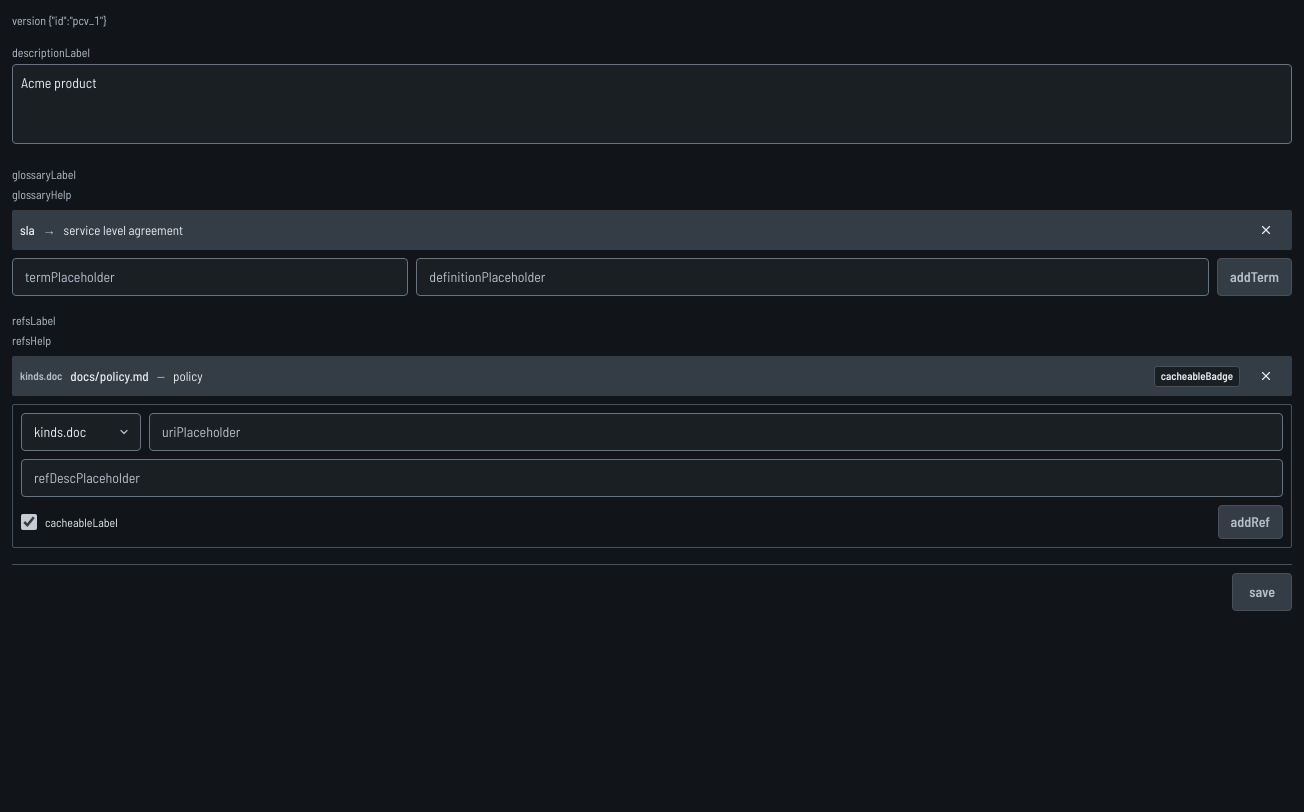
it: ProjectContextEditor › Save button is disabled until something changes
Expected: the text "sla" is shown, [20, 221, 35, 240]
Expected: the button "save" is disabled, [1232, 573, 1292, 611]
# Add a glossary entry to dirty.
Type "pr" into the field with placeholder "termPlaceholder" at coordinates (210, 277), box [12, 258, 408, 296]
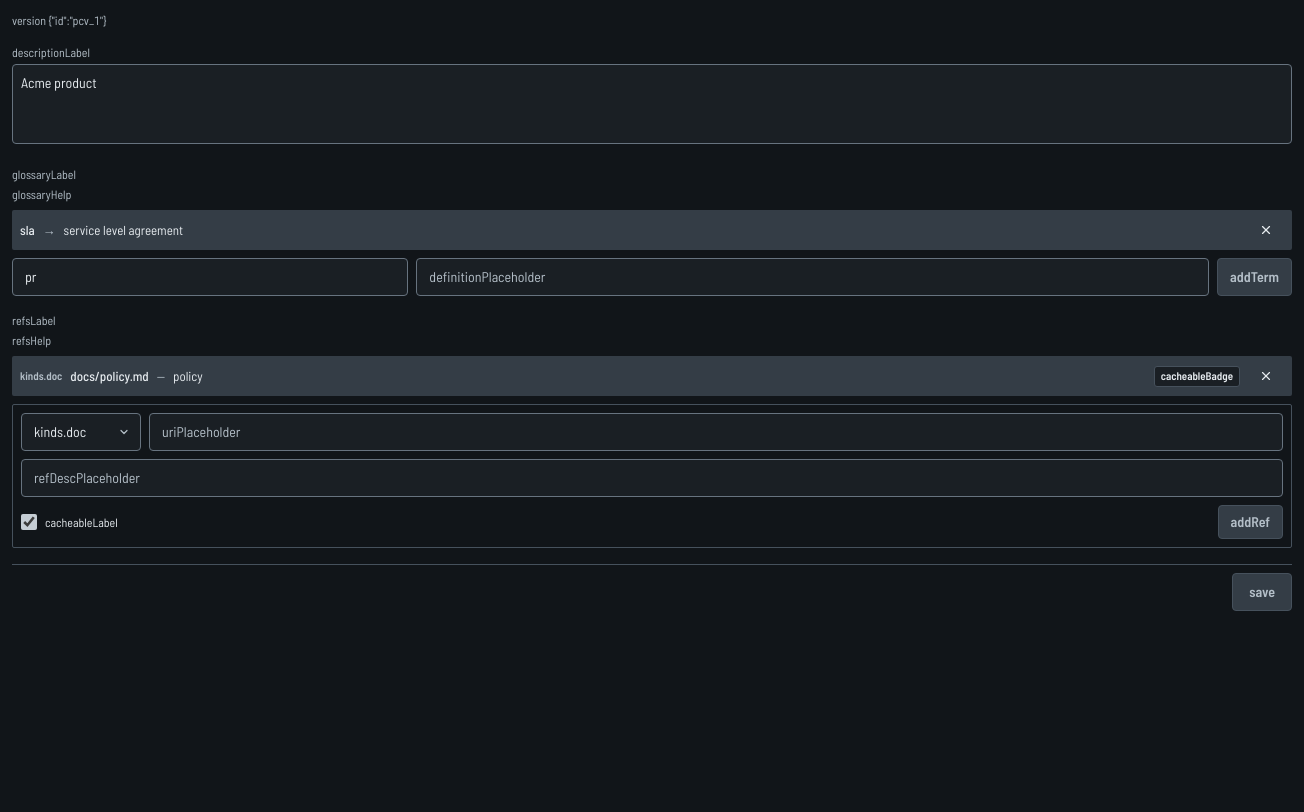
Type "pull request" into the field with placeholder "definitionPlaceholder" at coordinates (813, 277), box [416, 258, 1209, 296]
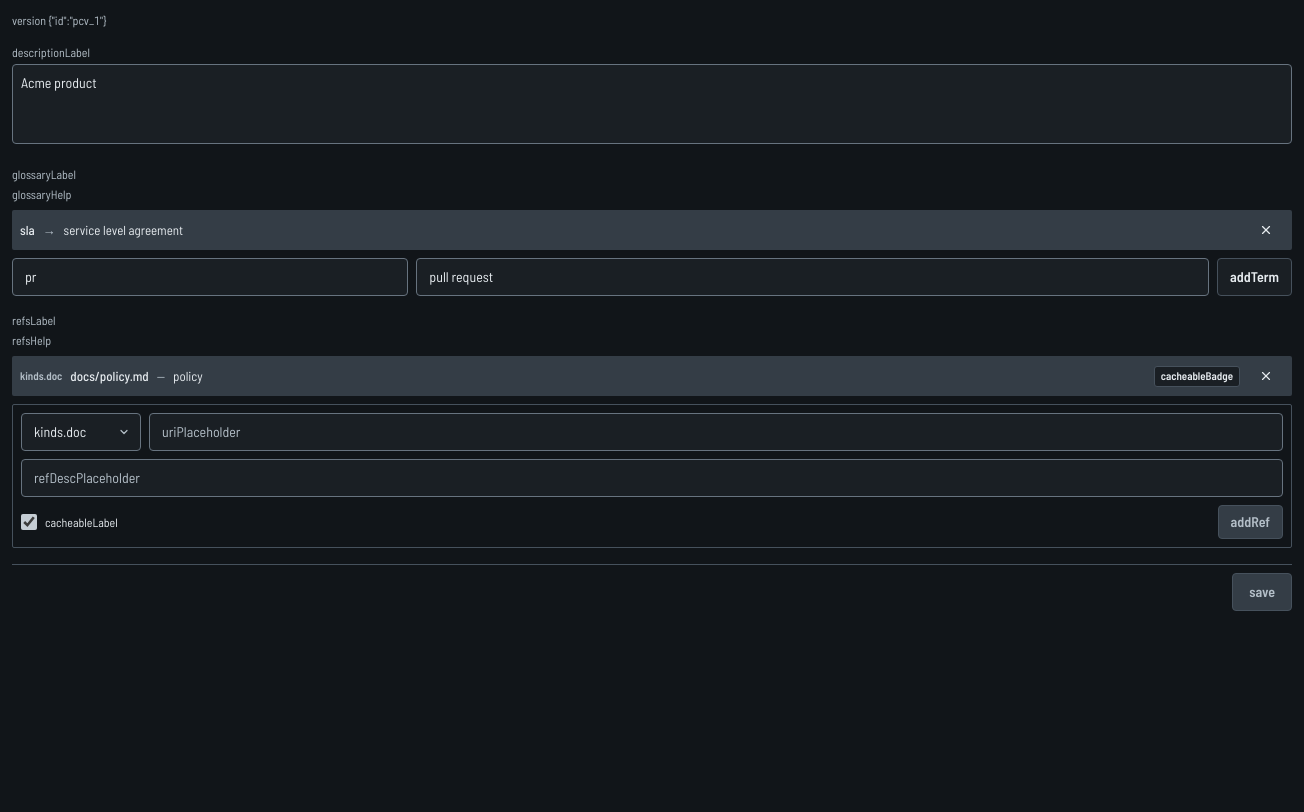
Click the button "addTerm" at coordinates (1255, 277), box [1217, 258, 1292, 296]
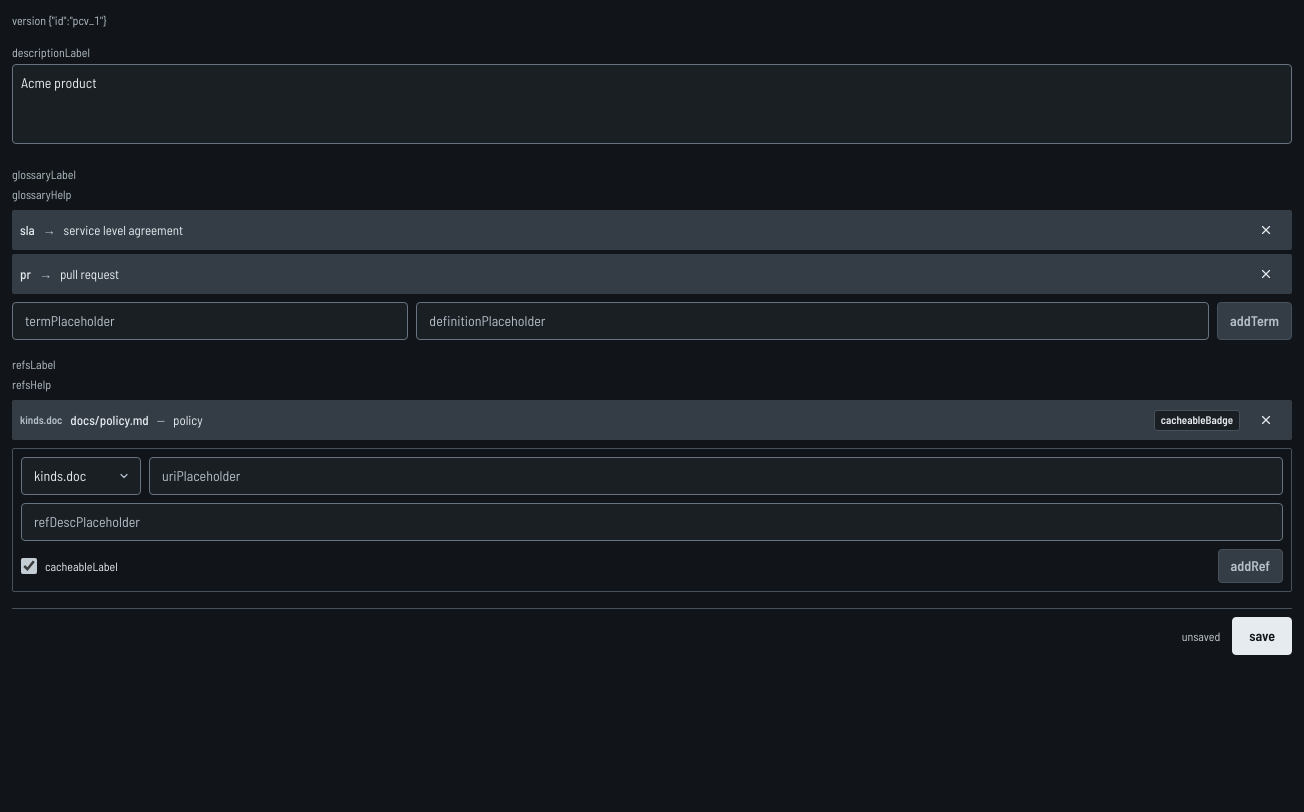
Result: the button "save" is enabled at [1232, 617, 1292, 655]
